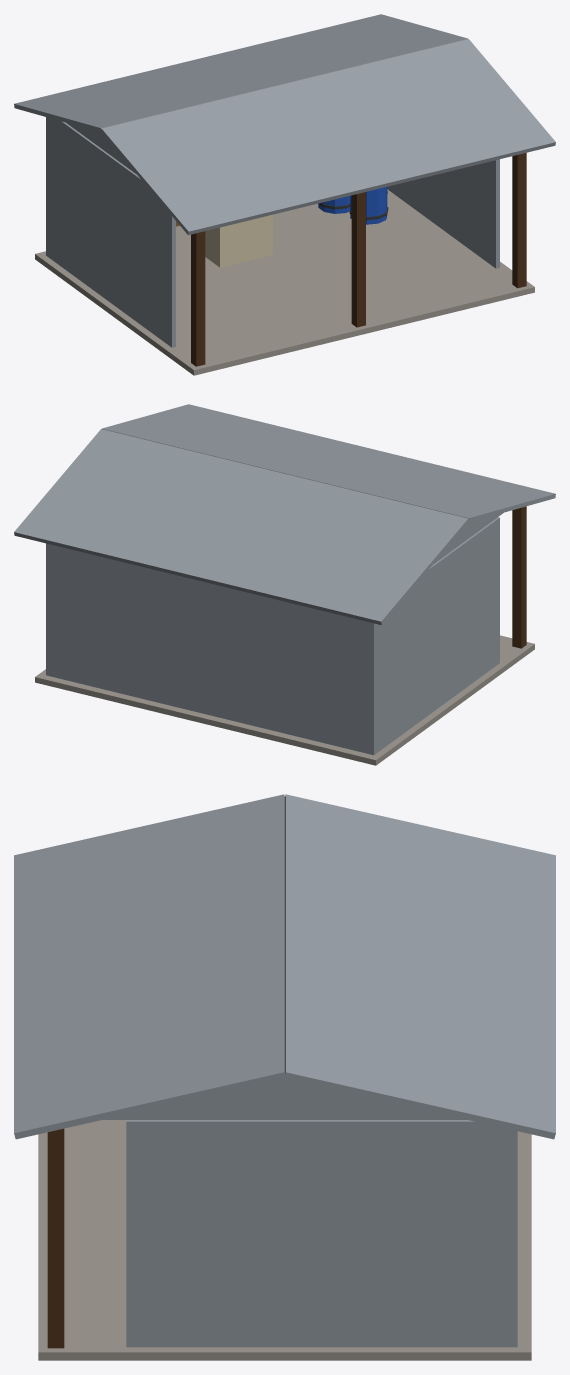
File: Hangar.fbx
The picture shows the model from 3 angles, top to bottom: view 1: azimuth 30°, elevation 25°; view 2: azimuth 150°, elevation 25°; view 3: azimuth 270°, elevation 25°; orthographic projection. The views are drawn at different scales.
Parts seen in each view (by area): view 1: Hangar; view 2: Hangar; view 3: Hangar.
Boxes of the visible parts, x1,y1,x2,y2 form: Hangar: [14, 14, 555, 375]; Hangar: [14, 404, 555, 765]; Hangar: [14, 794, 555, 1360].
Size of the model in its own units: 5.6 by 2.8 by 4.61.
